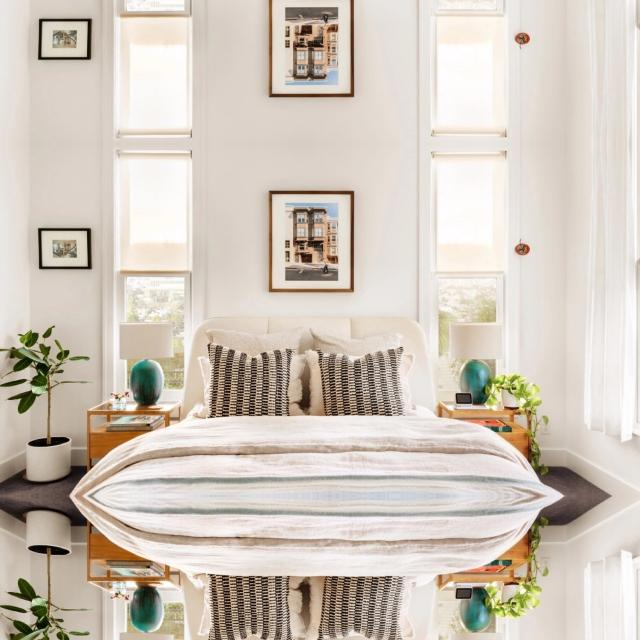pillow: (200, 341, 308, 416), (308, 345, 411, 416), (200, 576, 306, 640), (308, 576, 411, 640)
